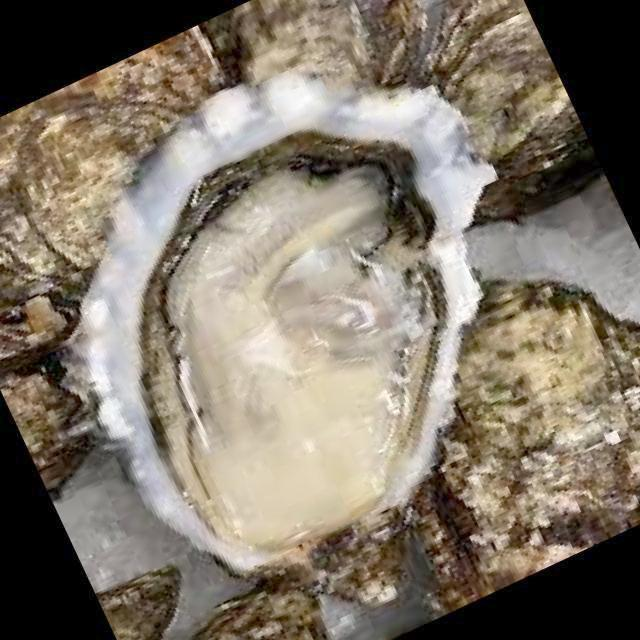Oyster-Closed: (416, 281, 640, 612), (0, 25, 224, 185), (16, 104, 168, 272), (438, 4, 582, 160), (222, 0, 380, 106), (392, 0, 524, 102), (0, 366, 86, 482), (184, 572, 326, 640), (80, 572, 200, 640)
Oyster-Open: (84, 79, 489, 552)
